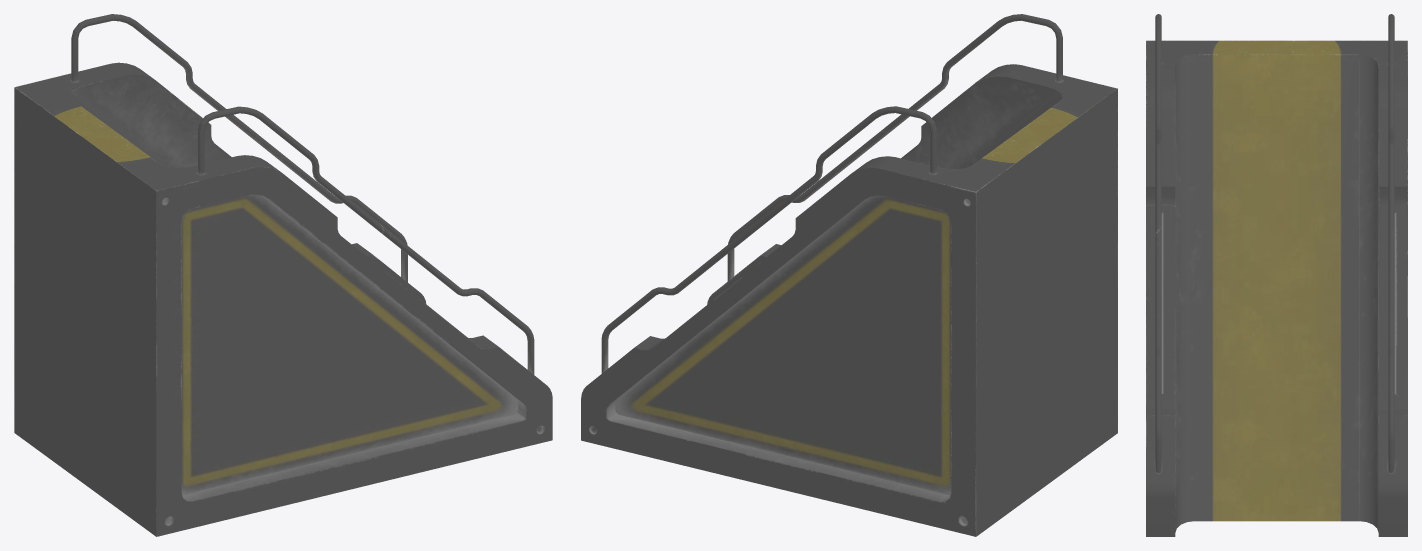
File: c065-opt.glb
3 views of the same model, side by side, from view 1: azimuth 30°, elevation 25°; view 2: azimuth 150°, elevation 25°; view 3: azimuth 270°, elevation 25° (orthographic). The views are drawn at different scales.
Parts seen in each view (by area): view 1: Cube.065; view 2: Cube.065; view 3: Cube.065.
Part boxes in pixels (bbox=[...]): Cube.065: bbox=[14, 14, 552, 536]; Cube.065: bbox=[581, 14, 1117, 536]; Cube.065: bbox=[1146, 14, 1407, 536].
Size of the model in its own units: 1.05 by 1.02 by 0.6535.
1 material, 1 textured.
